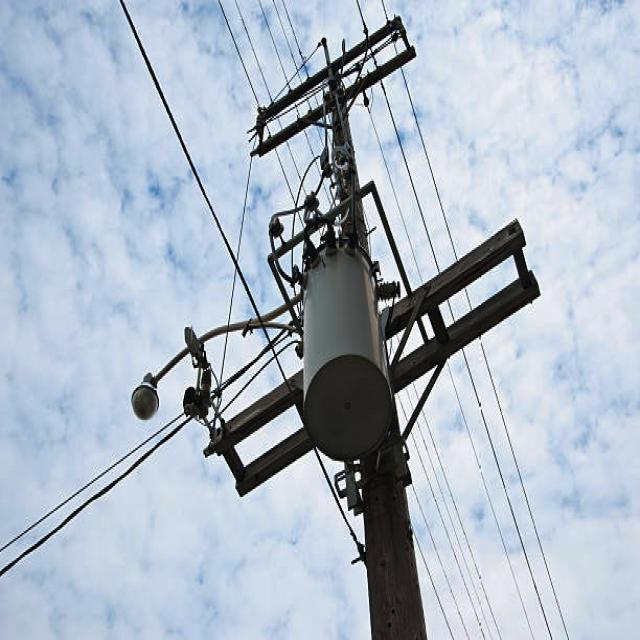crossarm: (384, 222, 542, 393), (256, 16, 407, 140), (250, 47, 415, 157), (206, 371, 315, 497)
pole: (333, 93, 428, 640)
transformer: (297, 226, 397, 464)
wire: (119, 0, 365, 562), (353, 0, 555, 640), (377, 0, 572, 640)
